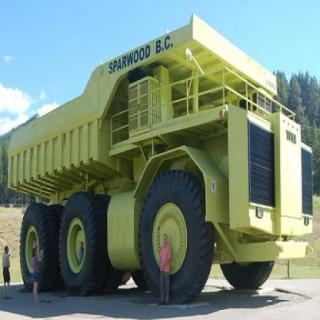Normal_vehicle: (0, 5, 316, 300)
